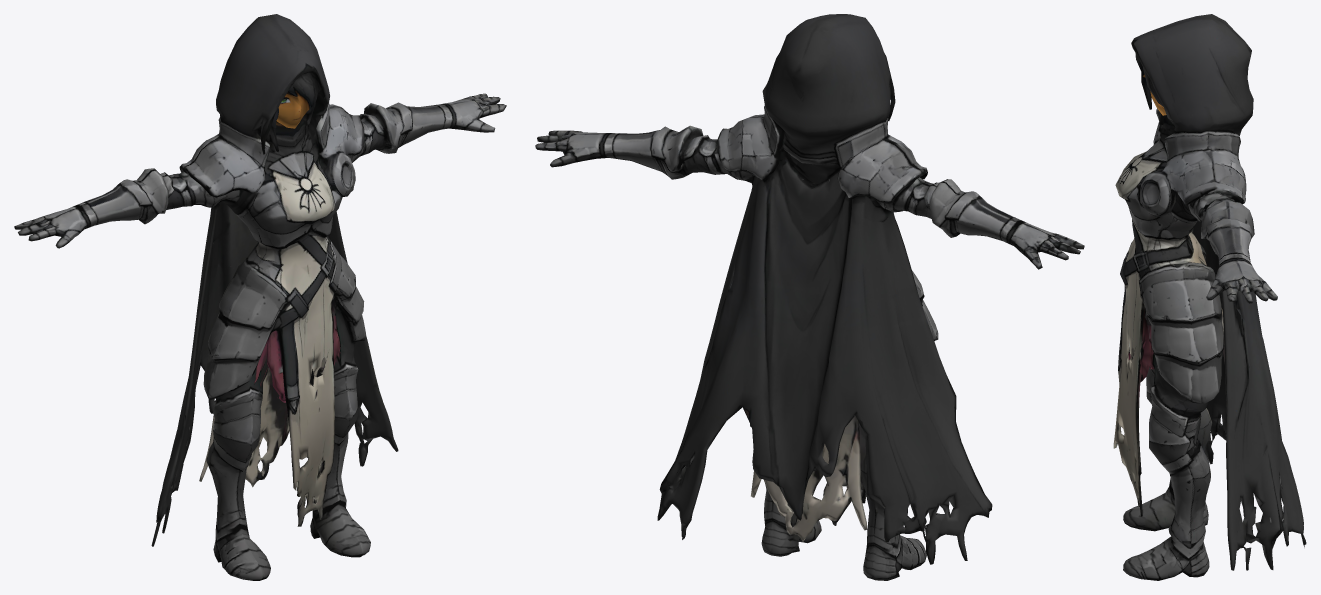
3 views of the same model, side by side, from view 1: azimuth 30°, elevation 25°; view 2: azimuth 150°, elevation 25°; view 3: azimuth 270°, elevation 25° (orthographic). The views are drawn at different scales.
Parts seen in each view (by area): view 1: tripo_node_e2ec4e2f-ebf6-4e56-b359-ec9d55f4d39a; view 2: tripo_node_e2ec4e2f-ebf6-4e56-b359-ec9d55f4d39a; view 3: tripo_node_e2ec4e2f-ebf6-4e56-b359-ec9d55f4d39a.
Part boxes in pixels (x1=…): tripo_node_e2ec4e2f-ebf6-4e56-b359-ec9d55f4d39a: x1=14, y1=14, x2=506, y2=580; tripo_node_e2ec4e2f-ebf6-4e56-b359-ec9d55f4d39a: x1=535, y1=14, x2=1084, y2=580; tripo_node_e2ec4e2f-ebf6-4e56-b359-ec9d55f4d39a: x1=1113, y1=14, x2=1306, y2=580.
Bounding box in the file's own units: 0.9698 × 0.9726 × 0.3201.
1 material, 1 textured.
